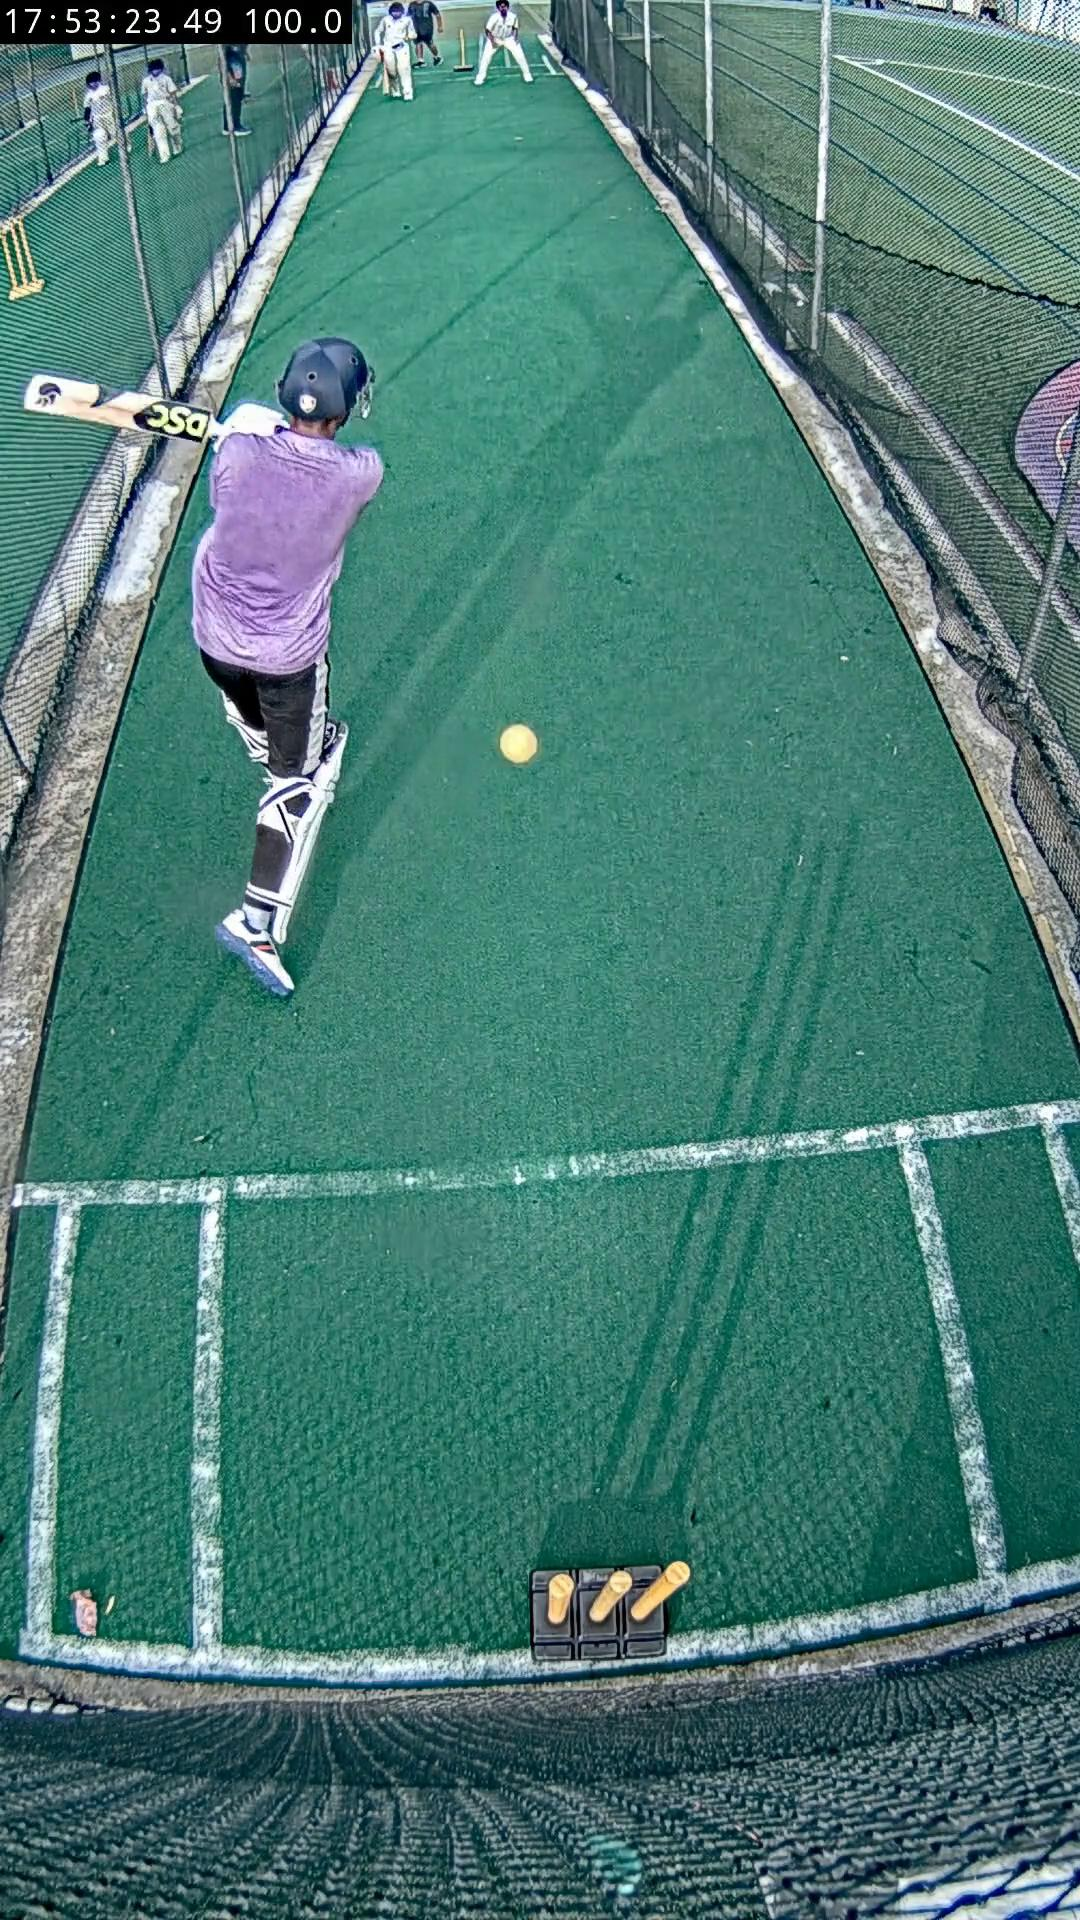ball: (498, 724, 541, 765)
bat: (26, 375, 210, 443)
gloves: (210, 401, 289, 439)
helmet: (277, 338, 372, 419)
pads: (270, 720, 348, 945)
stumps: (529, 1560, 690, 1665)
